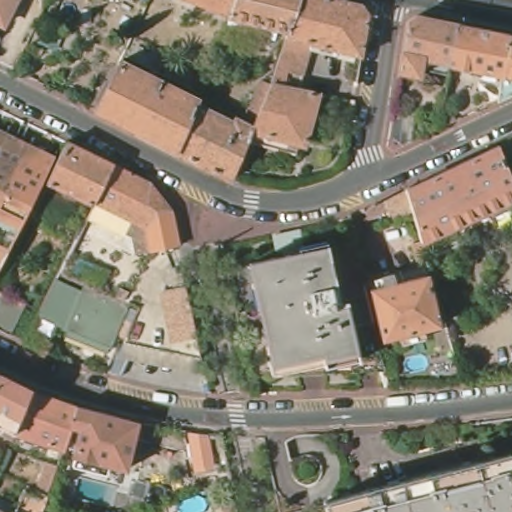pool: (75, 476, 112, 502), (403, 353, 430, 379), (179, 489, 208, 512)
